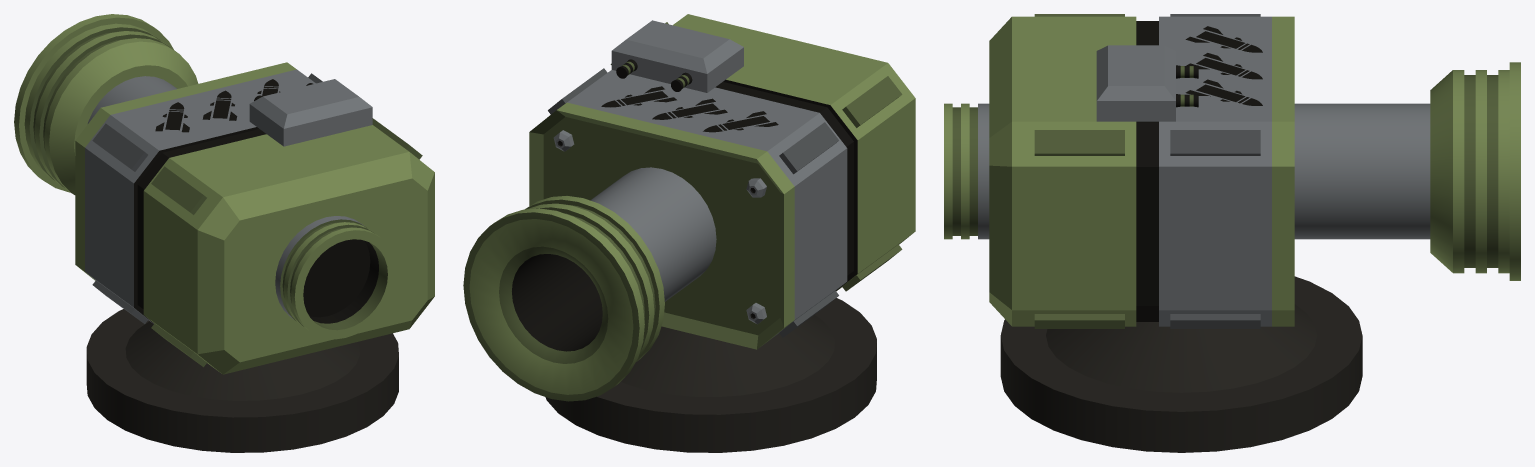
Rendered from bomber_heavy.fbx.
The picture shows the model from 3 angles, left to right: view 1: azimuth 30°, elevation 25°; view 2: azimuth 150°, elevation 25°; view 3: azimuth 270°, elevation 25°; orthographic projection. The views are drawn at different scales.
Parts seen in each view (by area): view 1: Plane, Circle, Cylinder, Plane.001, Plane.002; view 2: Plane, Cylinder, Circle, Plane.001, Plane.002, Circle.001; view 3: Plane, Cylinder, Circle, Plane.001, Plane.002.
Boxes of the visible parts, bbox=[...] form: Plane: bbox=[75, 62, 434, 374]; Circle: bbox=[86, 309, 398, 452]; Cylinder: bbox=[14, 14, 396, 339]; Plane.001: bbox=[249, 79, 372, 146]; Plane.002: bbox=[155, 79, 280, 132]; Plane: bbox=[529, 14, 915, 349]; Cylinder: bbox=[463, 167, 716, 401]; Circle: bbox=[545, 298, 876, 452]; Plane.001: bbox=[611, 20, 743, 92]; Plane.002: bbox=[601, 86, 778, 132]; Circle.001: bbox=[553, 130, 766, 197]; Plane: bbox=[989, 14, 1294, 328]; Cylinder: bbox=[944, 62, 1520, 280]; Circle: bbox=[1000, 276, 1362, 452]; Plane.001: bbox=[1096, 45, 1175, 121]; Plane.002: bbox=[1185, 26, 1262, 105].
Bounding box in the file's own units: 160 × 165 × 255.
